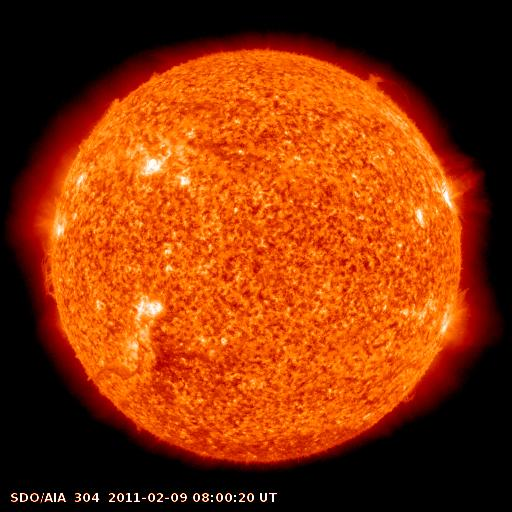prominence: (25, 240, 66, 307), (357, 61, 411, 106)
